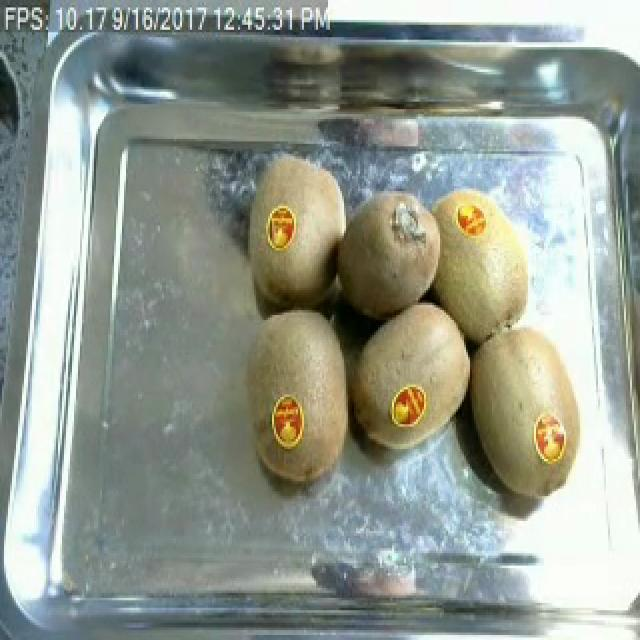Fruit: (458, 312, 594, 508), (248, 297, 364, 493), (322, 179, 450, 330)
